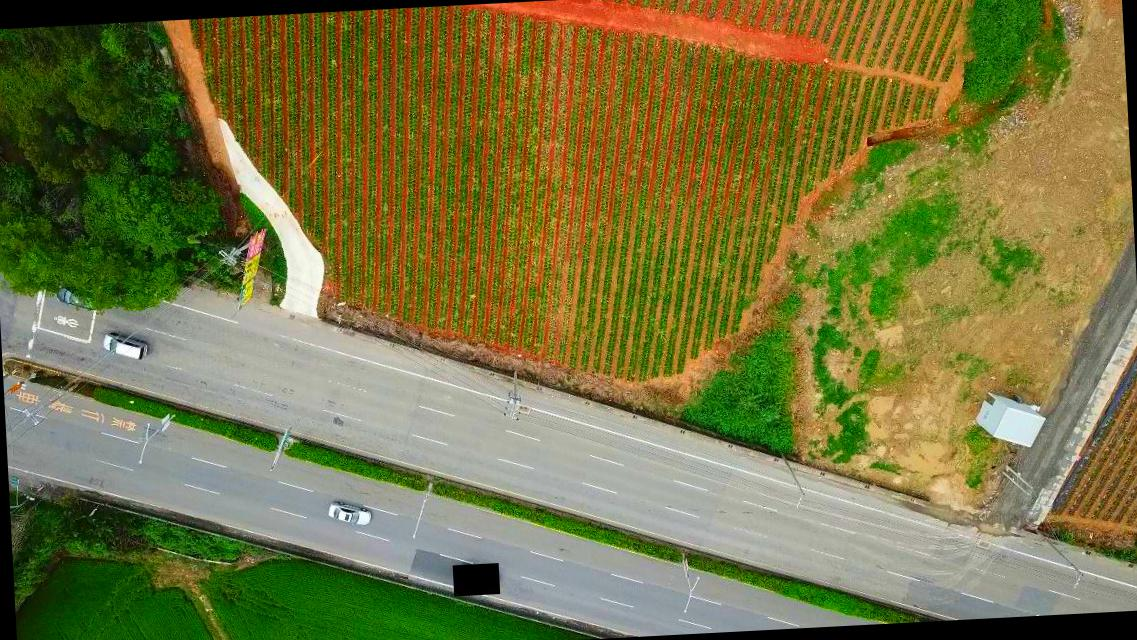vehicle: (103, 331, 148, 362), (56, 284, 100, 314), (328, 502, 370, 529)
